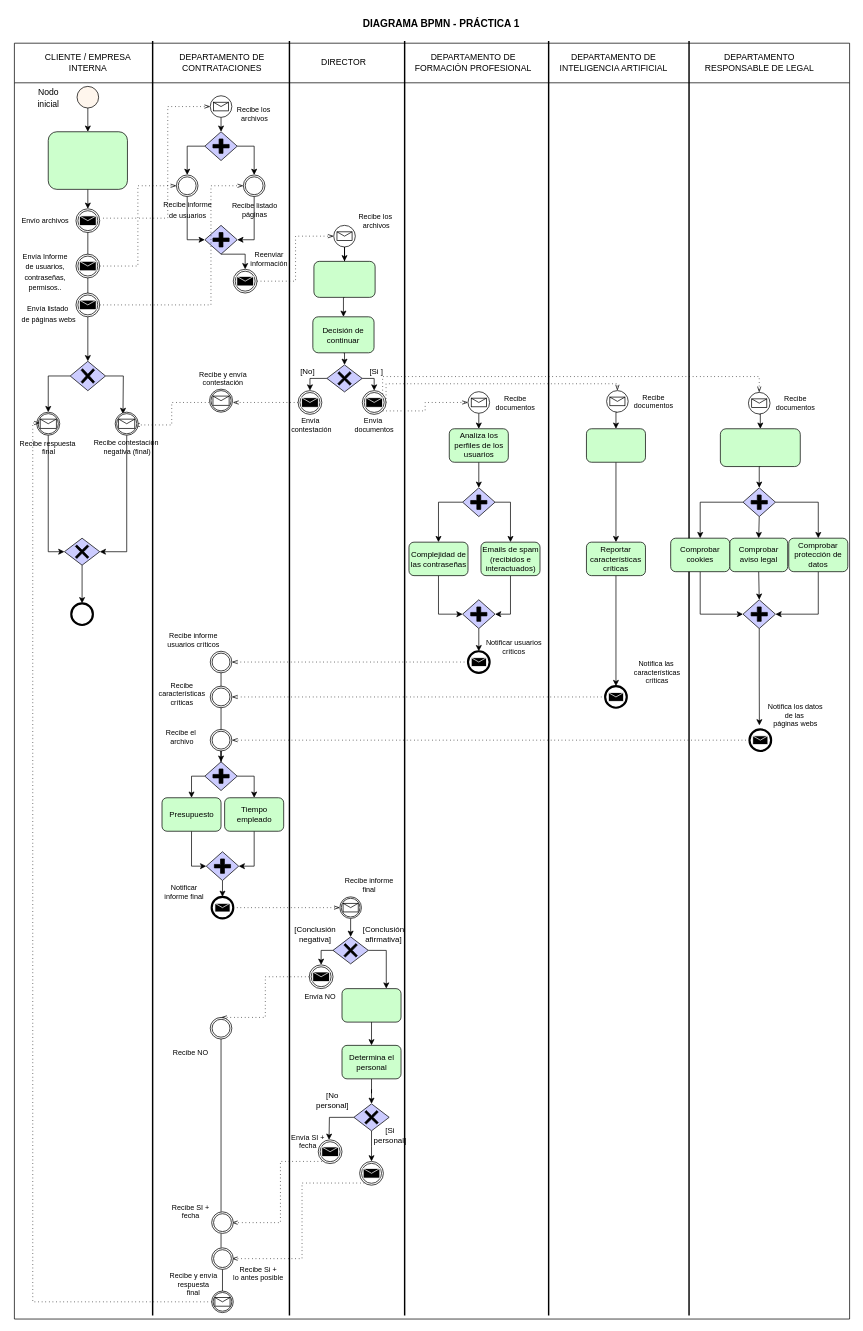
Image size: 863x1331. Some labels were removed from this diagram. The shapes that lost their labels are listed below. From the top down, each one's box as (x1, y1, x2, y2) in pixels, then its label:
(48, 131, 127, 189): Comienza a enviar archivos al departamento de contrataciones
(313, 261, 375, 297): Verificación de los archivos
(586, 428, 645, 462): Evalua las conexiones
(720, 428, 800, 467): Verificar cumplimiento de políticas
(341, 988, 401, 1022): Analiza proyectos en los que trabaja
